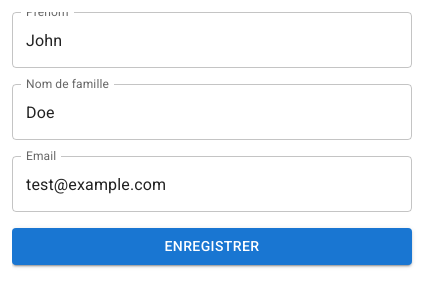
UserInfoForm › devrait afficher un message d'erreur si l'email est vide
Clear the field labelled "Email" at (212, 184), box [12,156,412,212]
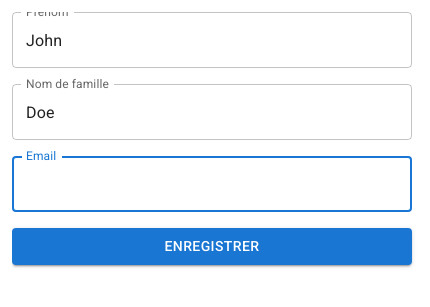
Click the button "Enregistrer" at (212, 246), box [12,228,412,264]
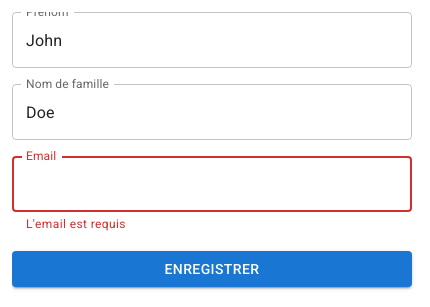
Check: the text "L'email est requis" is shown, box [26,217,126,231]
